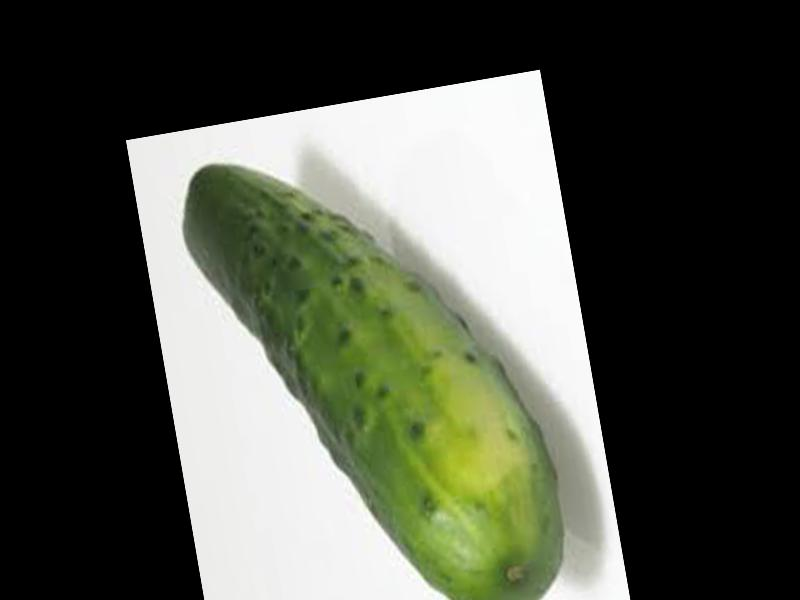Cucumber: (172, 116, 573, 600)
